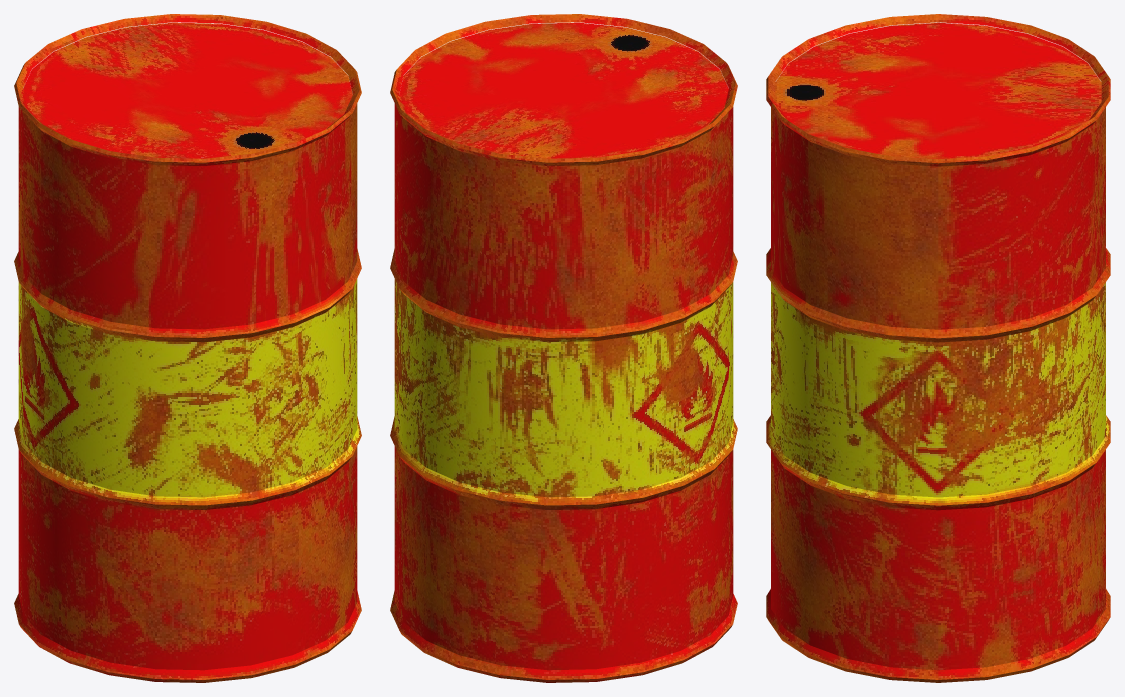
The model's file is oil_drum.glb.
The picture shows the model from 3 angles, left to right: view 1: azimuth 30°, elevation 25°; view 2: azimuth 150°, elevation 25°; view 3: azimuth 270°, elevation 25°; orthographic projection.
Visible parts, largest first — view 1: oildrum; view 2: oildrum; view 3: oildrum.
Boxes of the visible parts, left/top/right/bottom form: oildrum: left=14, top=14, right=361, bottom=682; oildrum: left=390, top=14, right=737, bottom=682; oildrum: left=766, top=14, right=1110, bottom=682.
Size of the model in its own units: 0.5419 by 0.9003 by 0.5364.
1 material, 1 textured.
